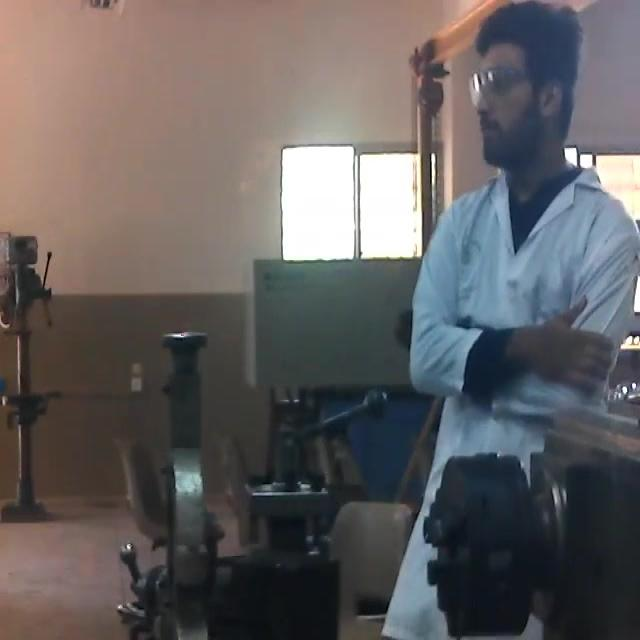googles: (458, 58, 548, 117)
labcoat: (389, 156, 639, 640)
